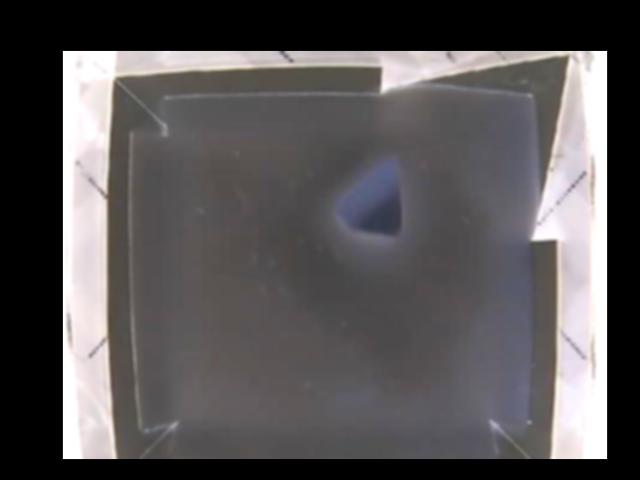Mooli: (336, 160, 404, 240)
